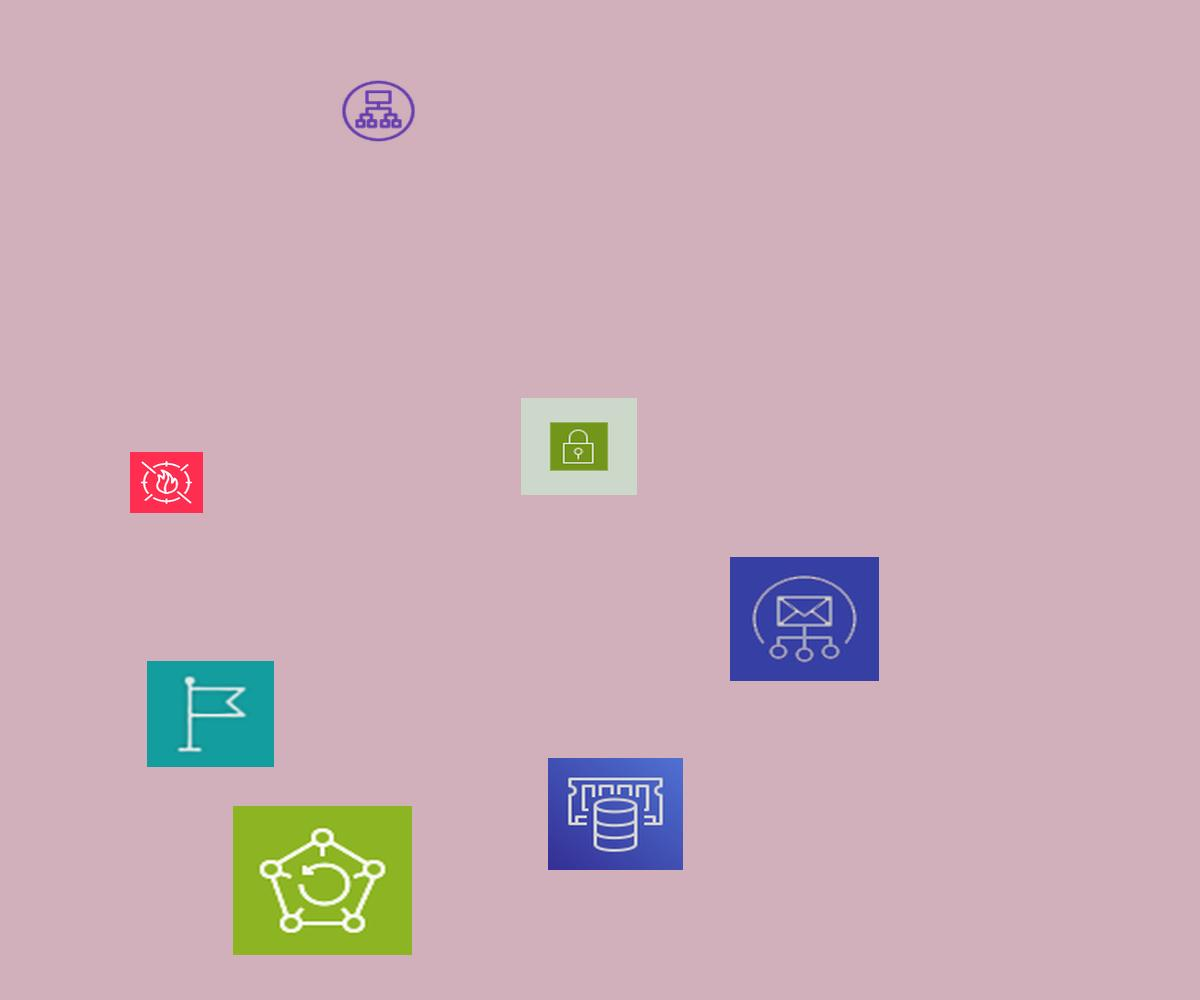AWS-Backup: (233, 806, 412, 955)
AWS-ElastiCache: (548, 758, 683, 870)
AWS-Public-subnet: (521, 398, 637, 495)
AWS-Region: (147, 661, 274, 767)
AWS-Res_Elastic-Load-Balancing_Application-Load-Balancer: (339, 78, 418, 144)
AWS-Simple-Email-Service: (730, 557, 879, 681)
AWS-WAF: (130, 452, 203, 513)
